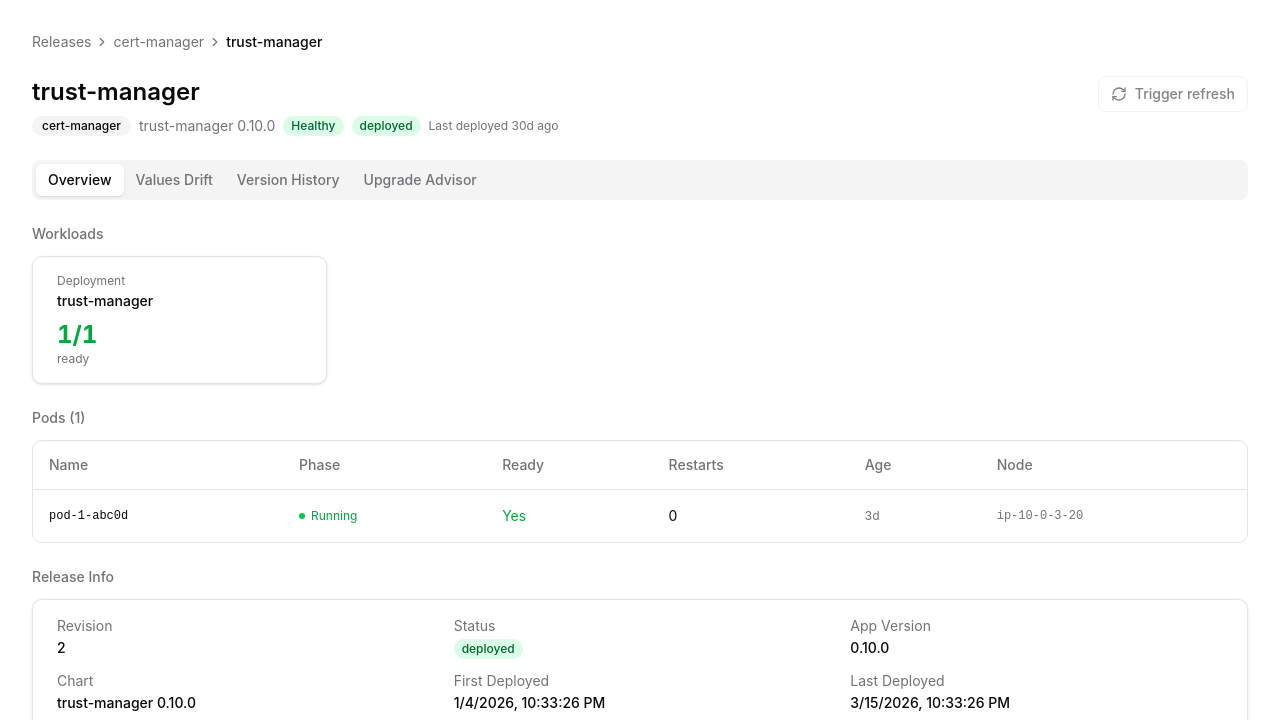
Scenario: ReleaseDetailPage — tabs › switching to Upgrade Advisor shows "Up to date" for trust-manager
Click the tab "Upgrade Advisor": (420, 180) [352,164,489,196]
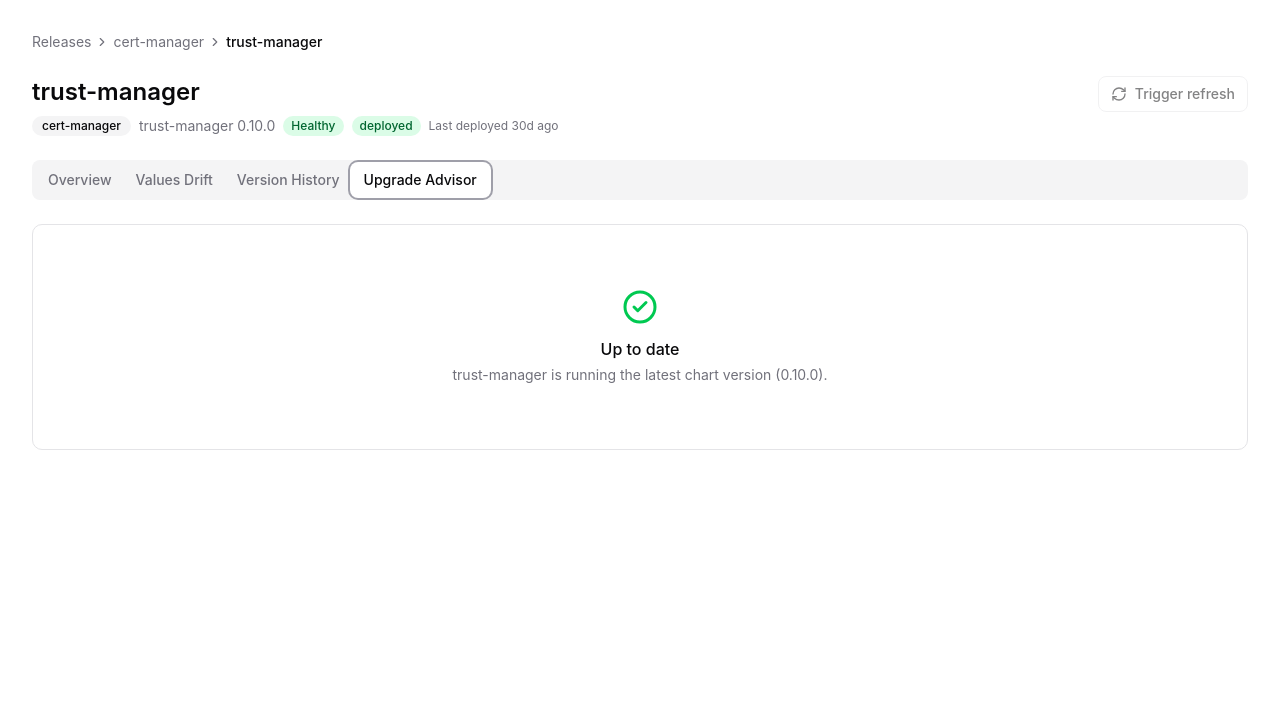
Now the text "Up to date" is shown, box [600,337,679,361]
